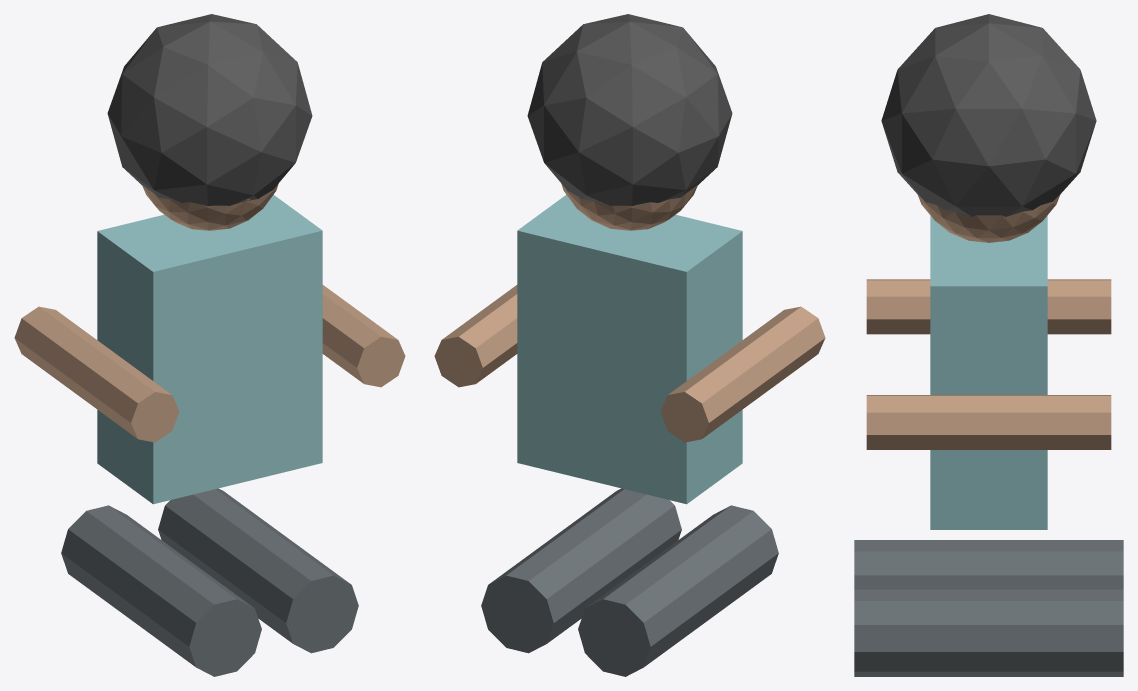
File: sim_teen_athletic.glb
3 views of the same model, side by side, from view 1: azimuth 30°, elevation 25°; view 2: azimuth 150°, elevation 25°; view 3: azimuth 270°, elevation 25° (orthographic). The views are drawn at different scales.
Visible parts, largest first — view 1: p002, p006, p000, p001, p003, p004, p005; view 2: p002, p006, p000, p001, p003, p004, p005; view 3: p006, p002, p001, p004, p000, p003, p005.
Boxes of the visible parts, box(x1,y1,x2,y2) form: p002: box(97, 194, 322, 504); p006: box(107, 14, 312, 206); p000: box(61, 505, 261, 676); p001: box(158, 488, 358, 653); p003: box(14, 306, 179, 442); p004: box(322, 285, 405, 387); p005: box(142, 184, 278, 230); p002: box(517, 194, 742, 504); p006: box(527, 14, 732, 206); p000: box(578, 505, 778, 676); p001: box(481, 488, 681, 653); p003: box(660, 306, 825, 442); p004: box(434, 285, 517, 387); p005: box(561, 184, 697, 230); p006: box(881, 14, 1096, 216); p002: box(930, 215, 1047, 529); p001: box(854, 589, 1123, 676); p004: box(866, 395, 1111, 449); p000: box(854, 540, 1123, 589); p003: box(866, 279, 1111, 334); p005: box(918, 195, 1059, 242).
Size of the model in its own units: 0.714 by 1.48 by 0.5775.
